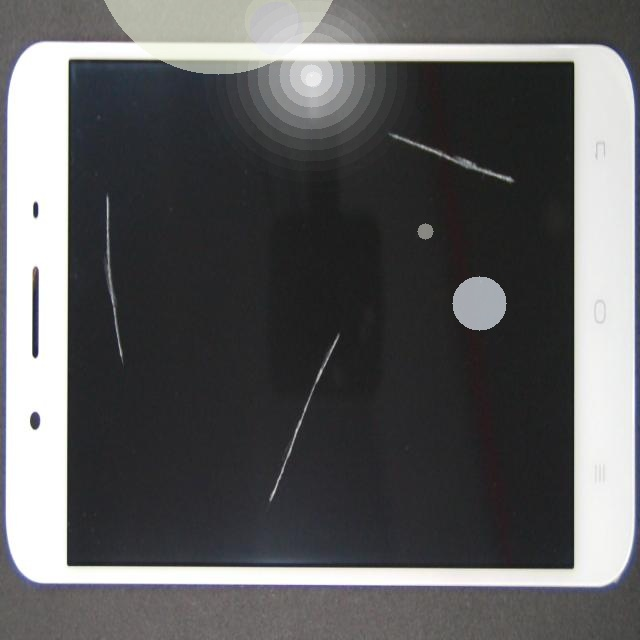scratch: (187, 162, 529, 482), (48, 0, 157, 344), (338, 120, 640, 231)
